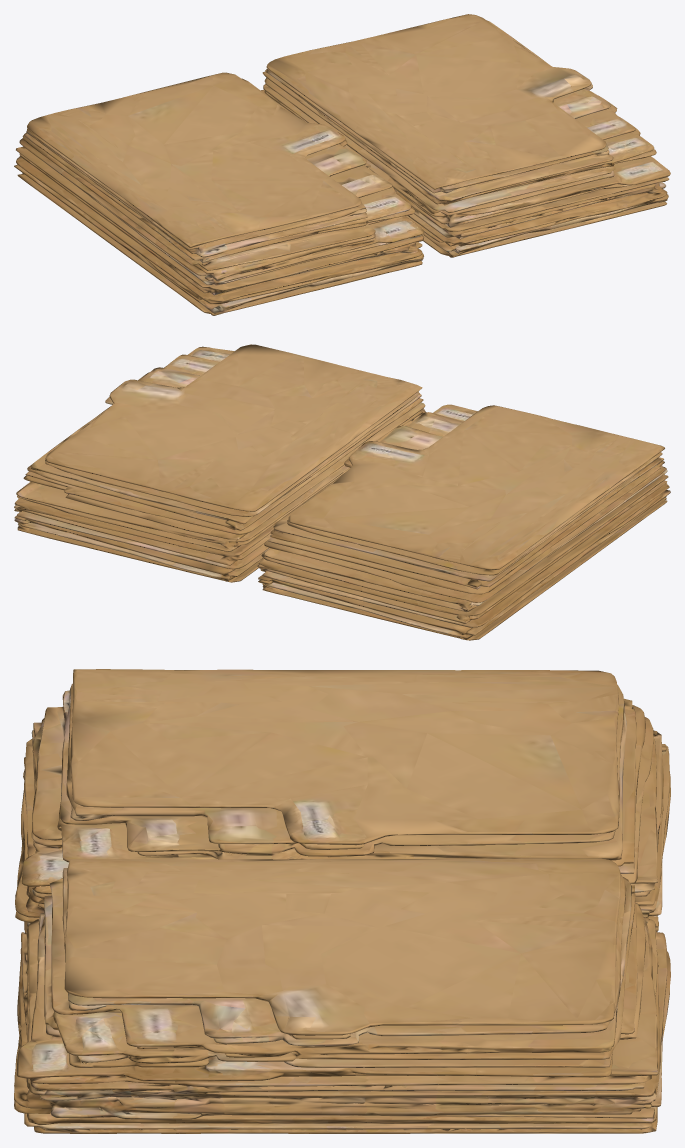
The model's file is files.glb.
3 views of the same model, one above another, from view 1: azimuth 30°, elevation 25°; view 2: azimuth 150°, elevation 25°; view 3: azimuth 270°, elevation 25° (orthographic). The views are drawn at different scales.
Size of the model in its own units: 1.9 by 0.2572 by 1.43.
Materials: 1 (1 with a texture image).
